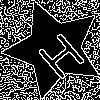H: (29, 24, 88, 82)
